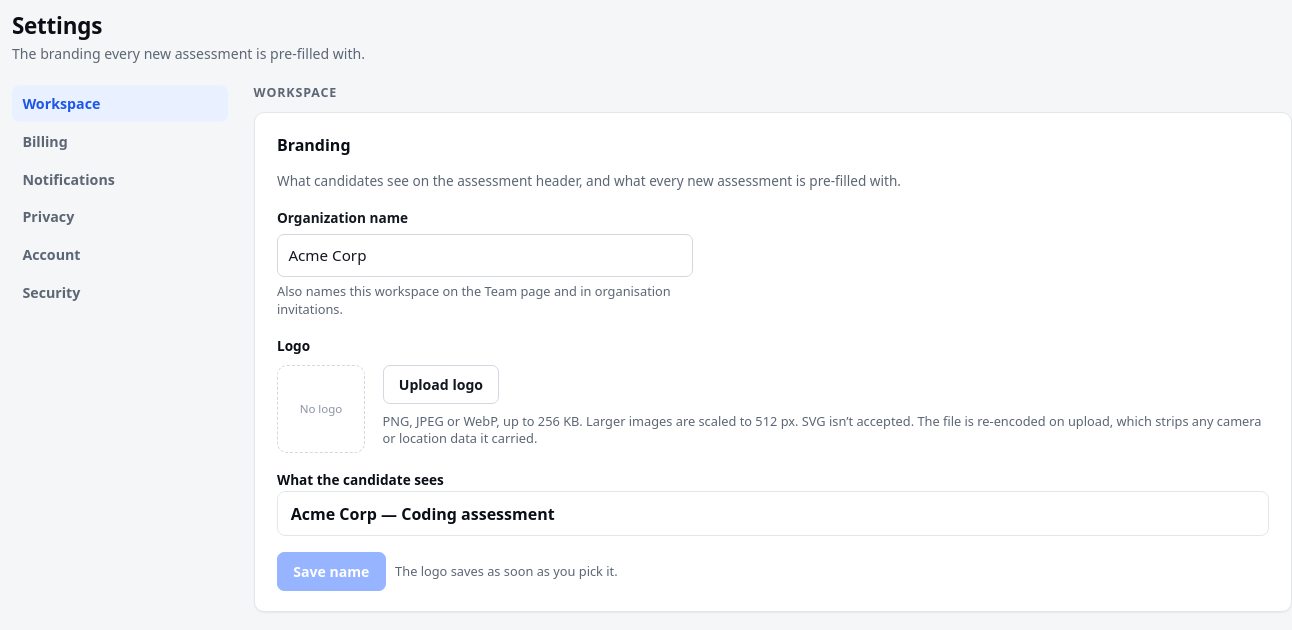
Settings sections (P3a) › navigates by section link
Click the link "Account" at (52, 254), box left=22, top=245, right=81, bottom=264
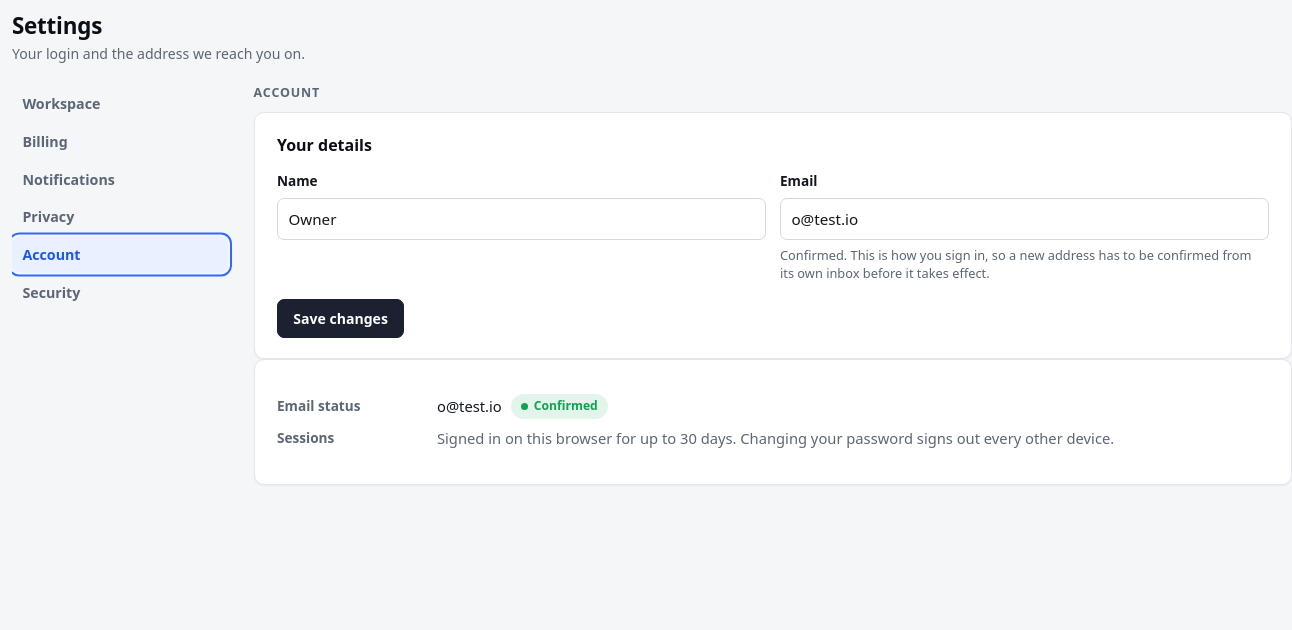
Check: the text "Signed in on this browser" is shown, box left=437, top=428, right=1114, bottom=448
Check: the text "What the candidate sees" is gone
